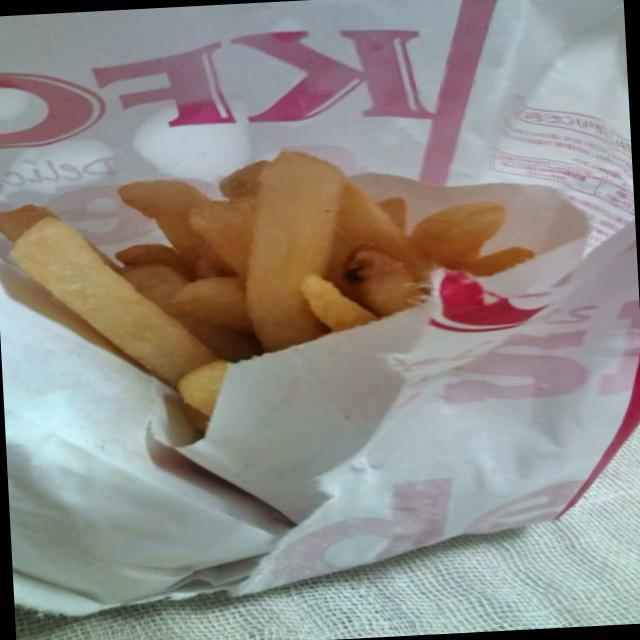French Fries: (0, 140, 552, 397)
